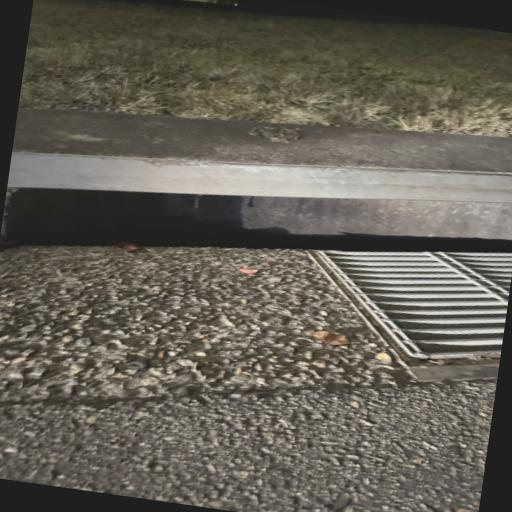kerb: (1, 110, 512, 379)
